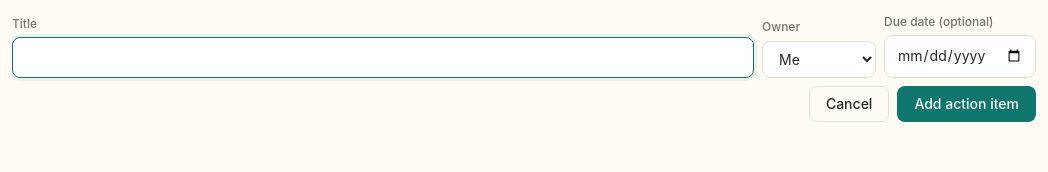
Scenario: ActionItemInline › clears the title error as soon as the user types
Click the button "Add action item".
click(967, 104)  # box [897, 86, 1036, 122]
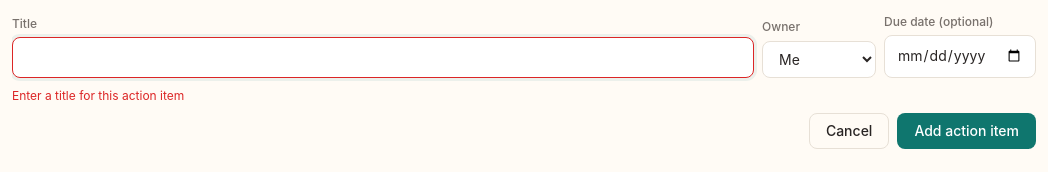
Type "a" into the field labelled "Title".
click(383, 57); type("a")  # box [12, 37, 754, 78]
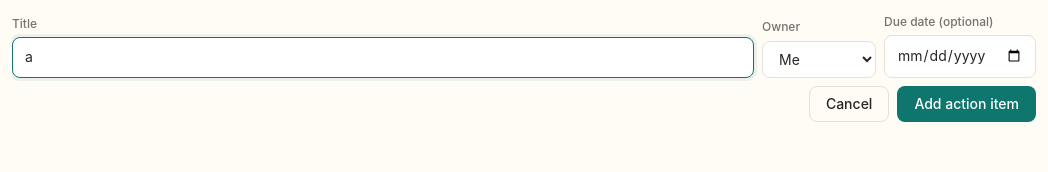
Expected: the message "Enter a title for this action item" is gone
